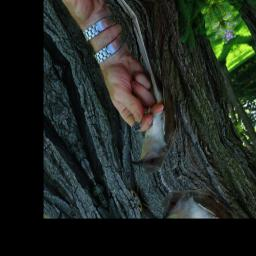Cuckoo: (77, 12, 204, 185)
